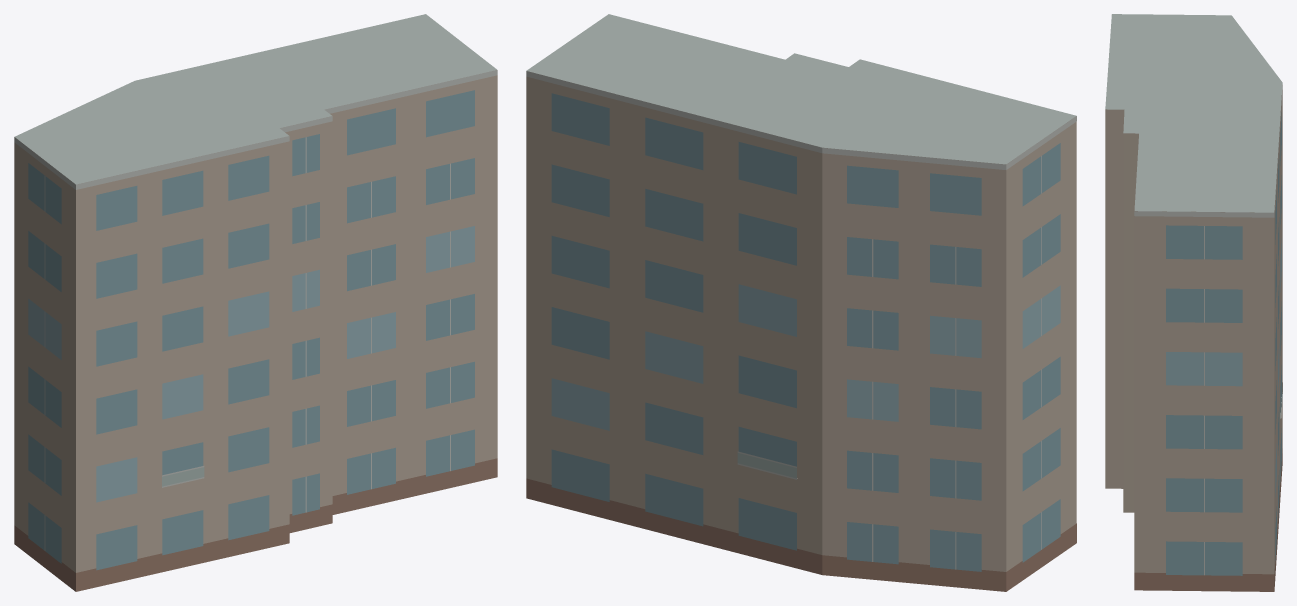
Rendered from survey-upis-33027535.glb.
The picture shows the model from 3 angles, left to right: view 1: azimuth 30°, elevation 25°; view 2: azimuth 150°, elevation 25°; view 3: azimuth 270°, elevation 25°; orthographic projection. The views are drawn at different scales.
Parts seen in each view (by area): view 1: survey-upis-33027535.tmp; view 2: survey-upis-33027535.tmp; view 3: survey-upis-33027535.tmp.
Part boxes in pixels (bbox=[...]): survey-upis-33027535.tmp: bbox=[14, 14, 497, 591]; survey-upis-33027535.tmp: bbox=[526, 14, 1076, 591]; survey-upis-33027535.tmp: bbox=[1105, 14, 1282, 591].
Size of the model in its own units: 20.57 by 18.3 by 7.77.
